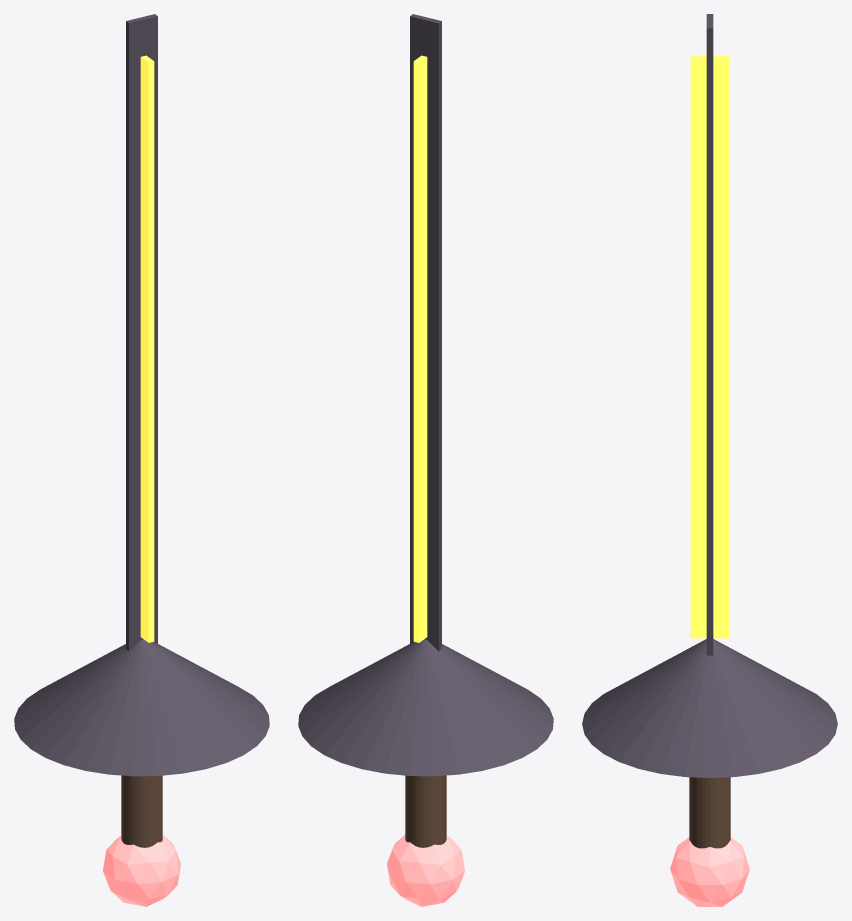
Rendered from weapon_volcanic_blade.glb.
3 renders of one model, left to right at view 1: azimuth 30°, elevation 25°; view 2: azimuth 150°, elevation 25°; view 3: azimuth 270°, elevation 25°, orthographic.
Parts seen in each view (by area): view 1: Cone, Cube, Cube.001, Icosphere, Cylinder; view 2: Cone, Cube, Cube.001, Icosphere, Cylinder; view 3: Cone, Cube.001, Cube, Icosphere, Cylinder.
Boxes of the visible parts, bbox=[...] form: Cone: bbox=[14, 639, 269, 776]; Cube: bbox=[126, 14, 157, 651]; Cube.001: bbox=[140, 55, 154, 642]; Icosphere: bbox=[103, 835, 180, 906]; Cylinder: bbox=[121, 775, 162, 847]; Cone: bbox=[298, 639, 553, 776]; Cube: bbox=[410, 14, 441, 651]; Cube.001: bbox=[413, 55, 427, 642]; Icosphere: bbox=[387, 835, 464, 906]; Cylinder: bbox=[405, 775, 446, 847]; Cone: bbox=[582, 639, 837, 777]; Cube.001: bbox=[690, 56, 729, 638]; Cube: bbox=[706, 14, 713, 655]; Icosphere: bbox=[670, 837, 749, 906]; Cylinder: bbox=[689, 777, 730, 848].
Size of the model in its own units: 0.32 by 1.22 by 0.32.
